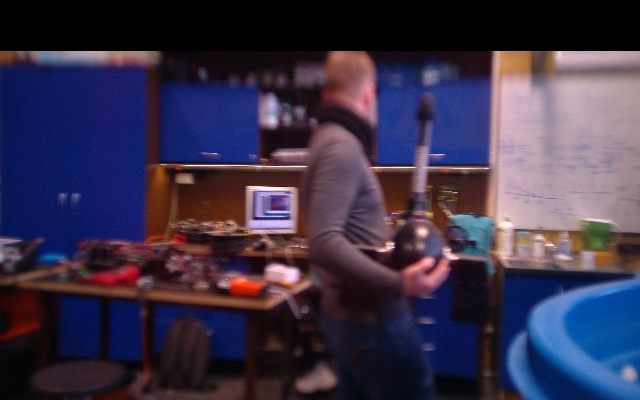black: (411, 142, 433, 199)
